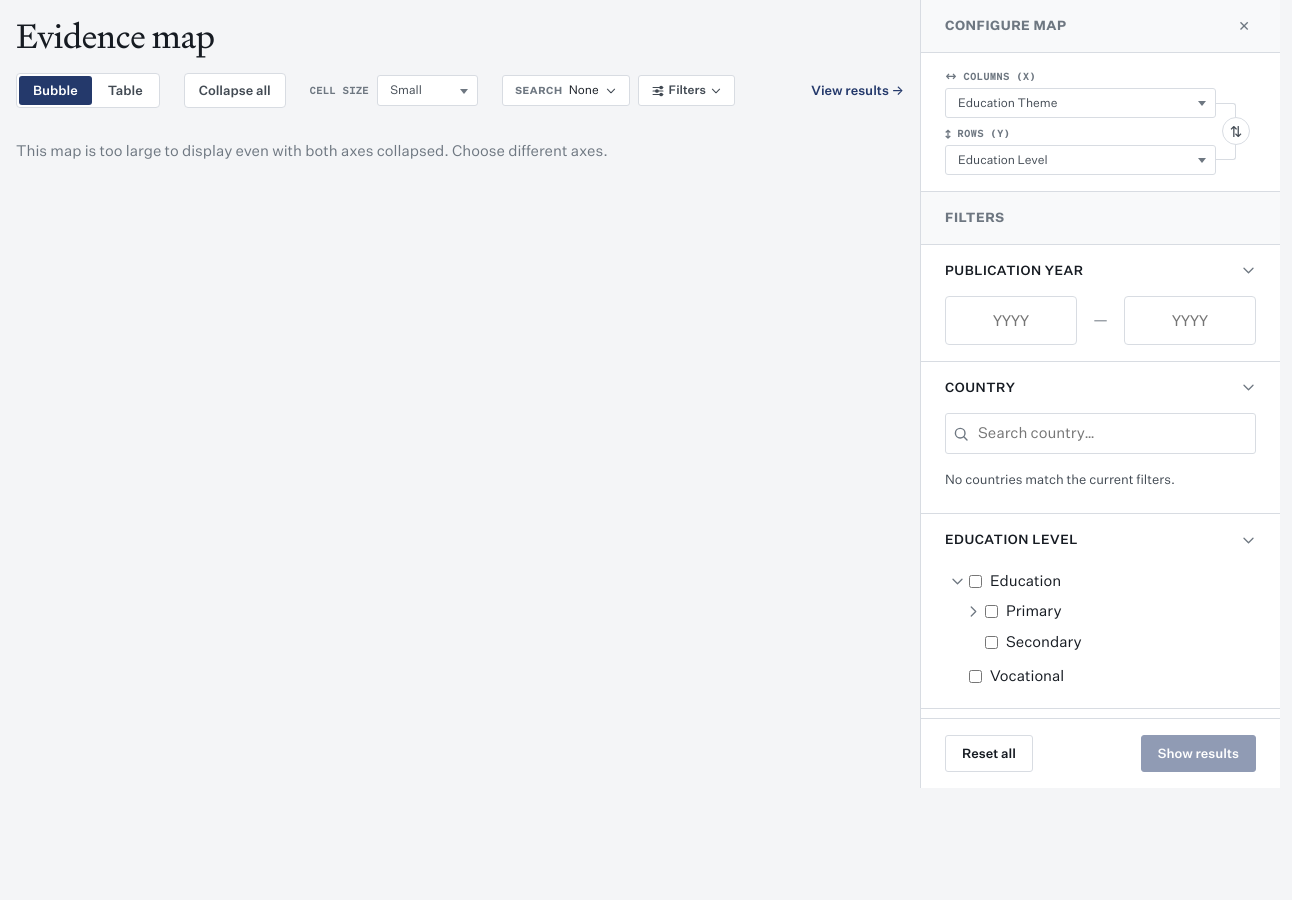
Test: VisualisePage nested-axis state › does not promise collapse recovery when top concepts exceed the limit
This screenshot has width=1292, height=900.
Step 1. Click the button "Collapse all" → point(235, 91), box [184,73,286,108]
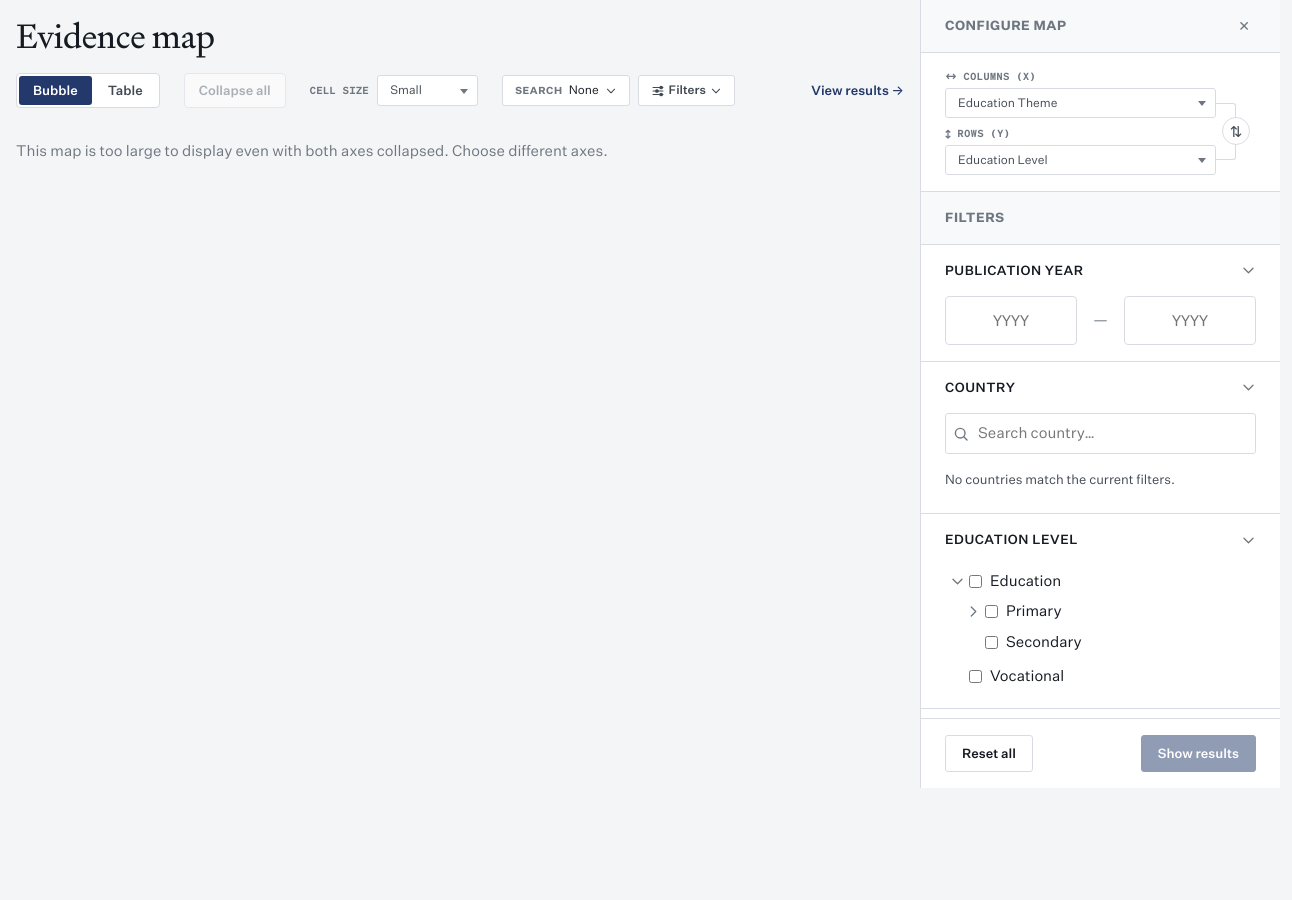
Check: the message shows "Choose different axes", box [16,142,608,159]
Check: the button "Collapse all" is disabled, box [184,73,286,108]
